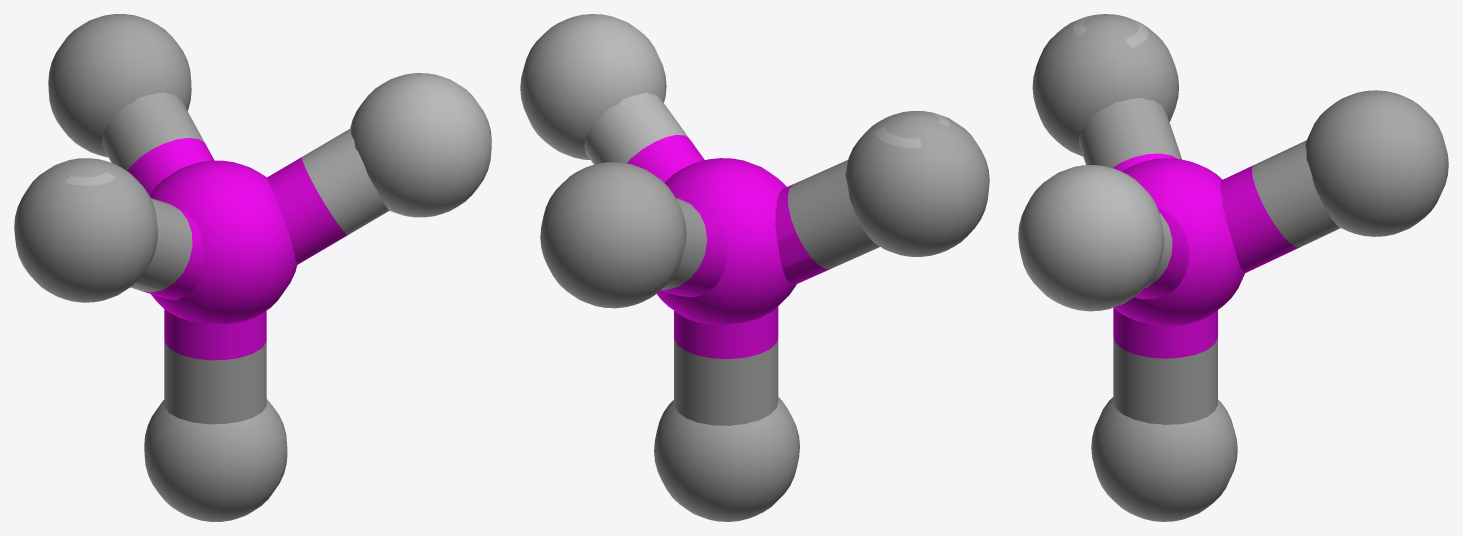
File: molekul_tetrahedral.fbx
The picture shows the model from 3 angles, left to right: view 1: azimuth 30°, elevation 25°; view 2: azimuth 150°, elevation 25°; view 3: azimuth 270°, elevation 25°; orthographic projection.
Visible parts, largest first — view 1: polySurface230; view 2: polySurface230; view 3: polySurface230.
Boxes of the visible parts, x1,y1,x2,y2 form: polySurface230: (14, 14, 491, 521); polySurface230: (520, 14, 989, 521); polySurface230: (1018, 14, 1448, 521).
Size of the model in its own units: 10.1 by 8.99 by 8.22.
